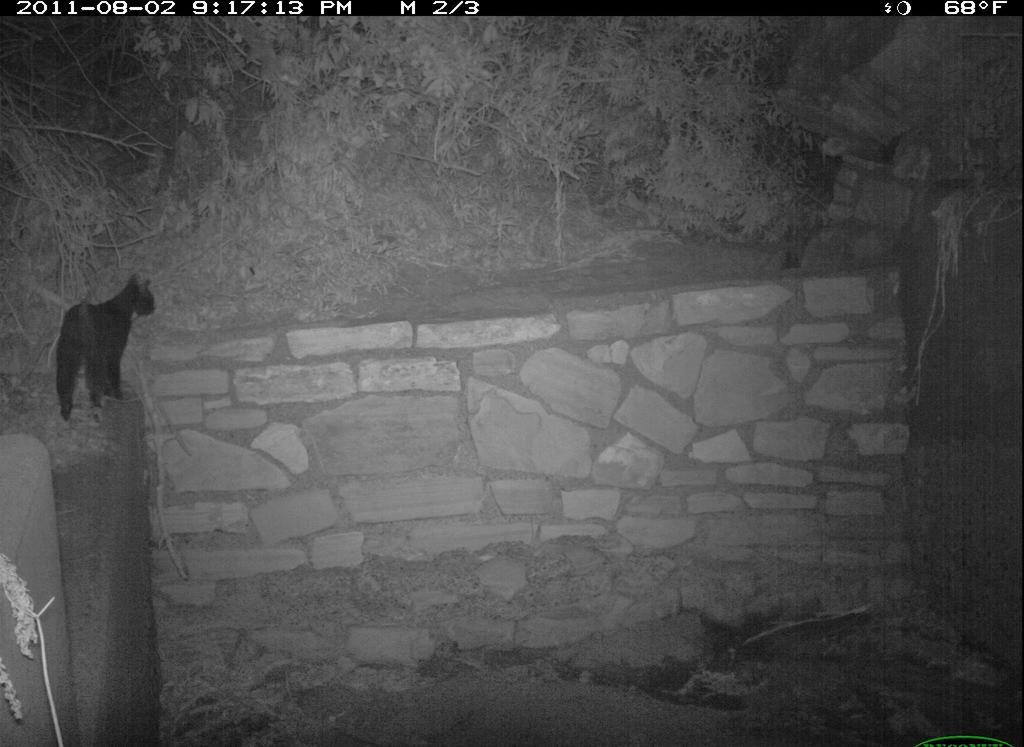cat: (38, 271, 166, 432)
